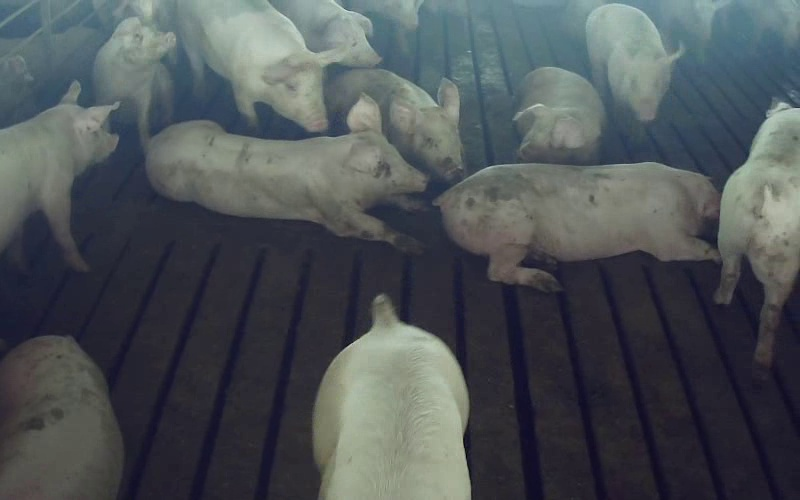pig: (148, 94, 427, 252), (436, 163, 718, 291), (313, 294, 470, 499), (715, 101, 799, 380), (0, 81, 117, 271), (175, 0, 343, 131), (324, 69, 463, 182), (586, 4, 683, 121), (93, 17, 175, 148), (513, 67, 605, 164)
